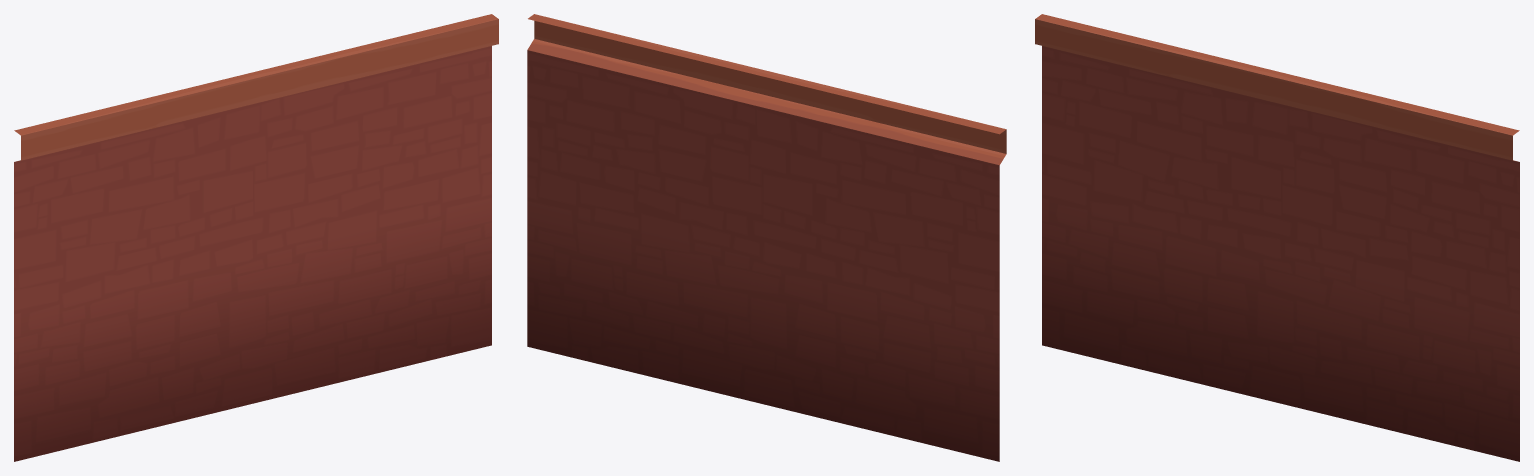
Rendered from sm_WallBack.fbx.
3 views of the same model, side by side, from view 1: azimuth 30°, elevation 25°; view 2: azimuth 150°, elevation 25°; view 3: azimuth 330°, elevation 25° (orthographic).
Parts seen in each view (by area): view 1: sm_WallBack; view 2: sm_WallBack; view 3: sm_WallBack.
Part boxes in pixels (x1,y1,x2,y2): sm_WallBack: (14,14,498,461); sm_WallBack: (527,14,1006,461); sm_WallBack: (1035,14,1519,461).
Bounding box in the file's own units: 5000 × 3314 × 126.
